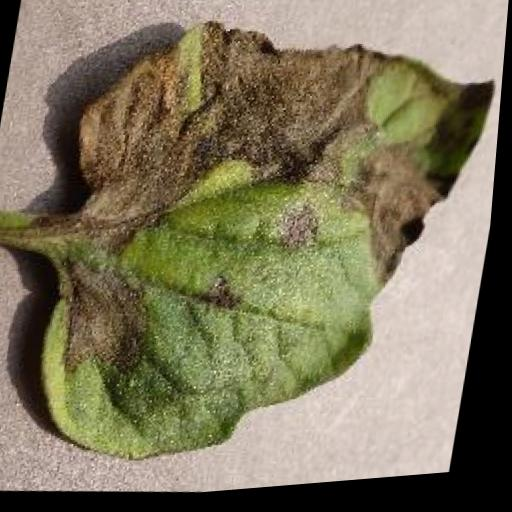Late Blight: (28, 0, 509, 494)
